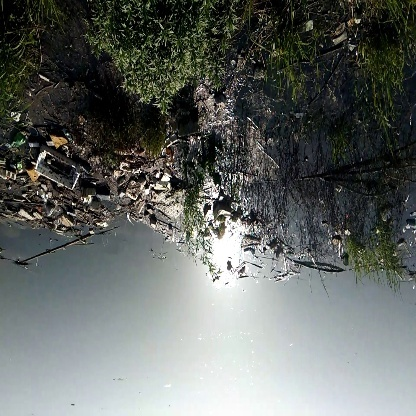branch: (19, 234, 92, 268)
